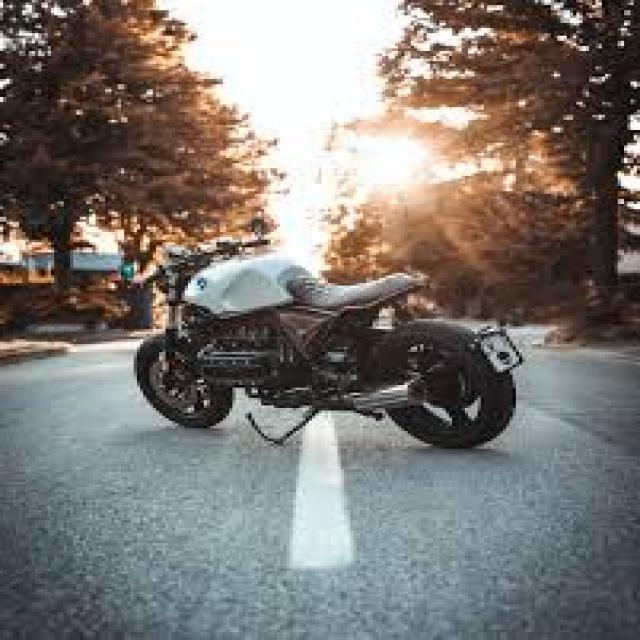Bike: (131, 207, 527, 450)
